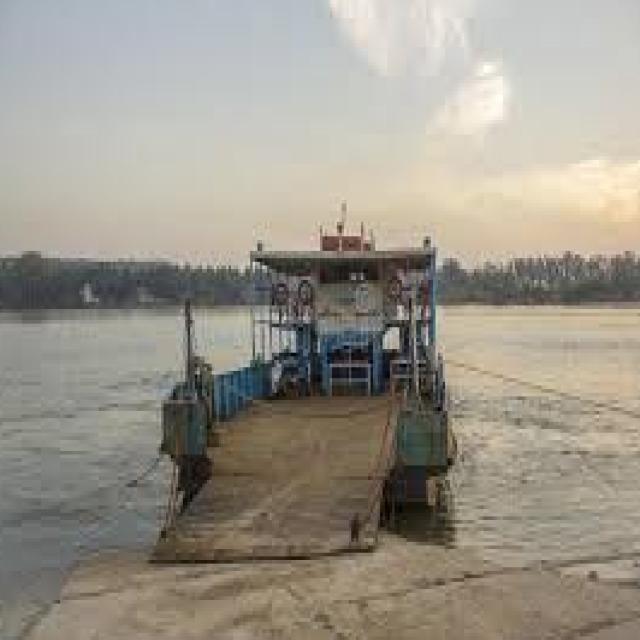fishing boat: (143, 196, 467, 490)
